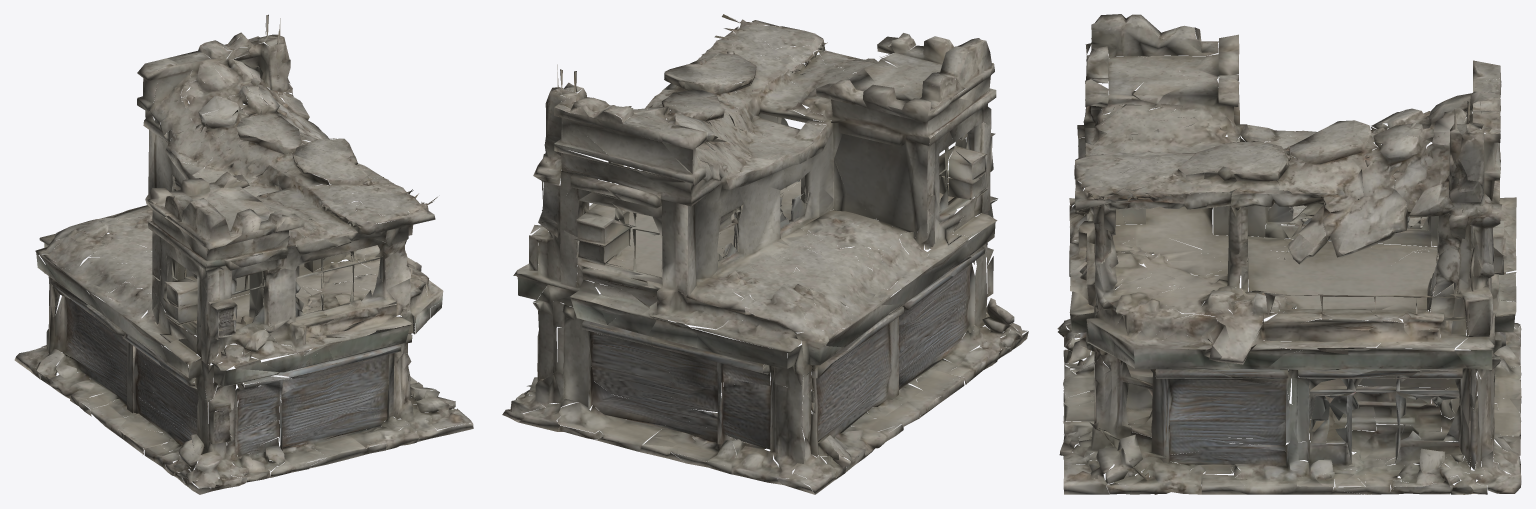
The model's file is ruined-storefront-v1.glb.
3 views of the same model, side by side, from view 1: azimuth 30°, elevation 25°; view 2: azimuth 150°, elevation 25°; view 3: azimuth 270°, elevation 25° (orthographic). The views are drawn at different scales.
Visible parts, largest first — view 1: ruined-storefront; view 2: ruined-storefront; view 3: ruined-storefront.
Boxes of the visible parts, bbox=[...] form: ruined-storefront: bbox=[14, 14, 473, 494]; ruined-storefront: bbox=[502, 14, 1028, 494]; ruined-storefront: bbox=[1057, 14, 1521, 494].
Bounding box in the file's own units: 7.99 × 8.01 × 8.99.
1 material, 1 textured.
